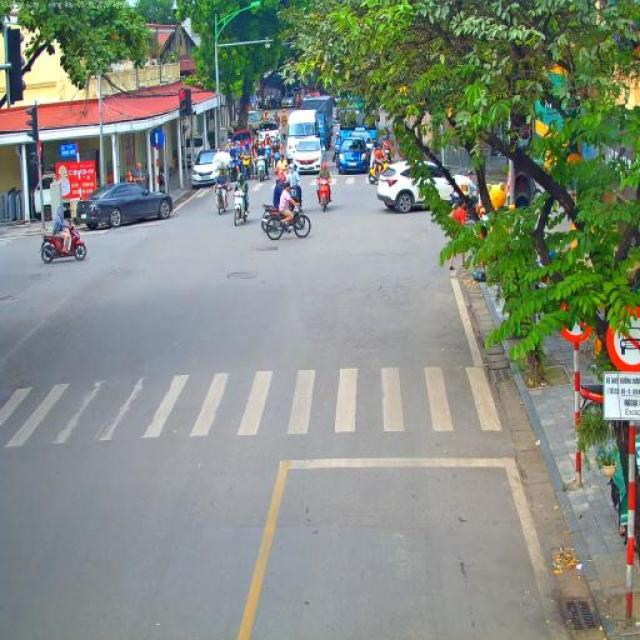car: (376, 158, 472, 214), (76, 181, 173, 229), (192, 148, 232, 188), (338, 133, 372, 176), (293, 135, 323, 175), (231, 129, 254, 149), (260, 121, 280, 141), (246, 110, 262, 130), (281, 92, 294, 108)
motorcycle: (260, 199, 312, 241), (40, 221, 89, 264), (368, 153, 392, 186), (233, 185, 249, 226), (212, 184, 228, 216), (317, 178, 332, 212), (287, 177, 303, 208), (239, 152, 252, 182), (254, 155, 267, 183), (227, 154, 238, 183), (332, 142, 342, 168), (276, 170, 289, 189), (380, 148, 394, 164), (262, 145, 270, 165), (272, 150, 279, 170)
truck: (286, 97, 334, 162), (338, 107, 378, 148)
